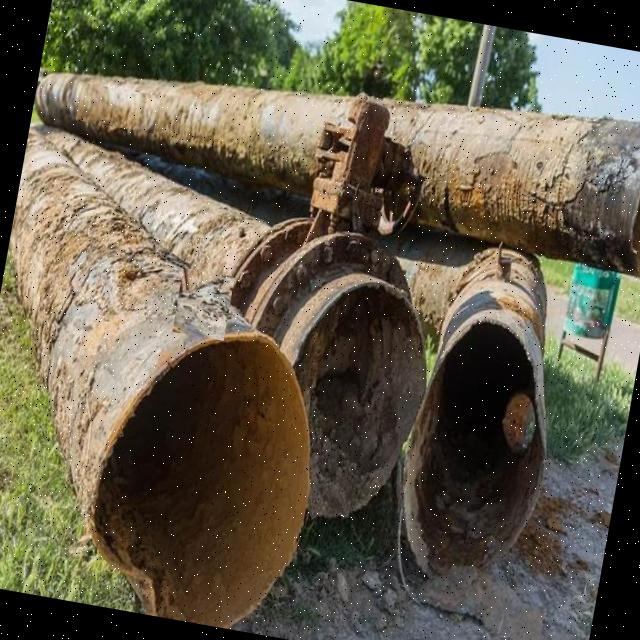Corrosion: (0, 11, 640, 640), (0, 121, 365, 637), (21, 12, 640, 280)
